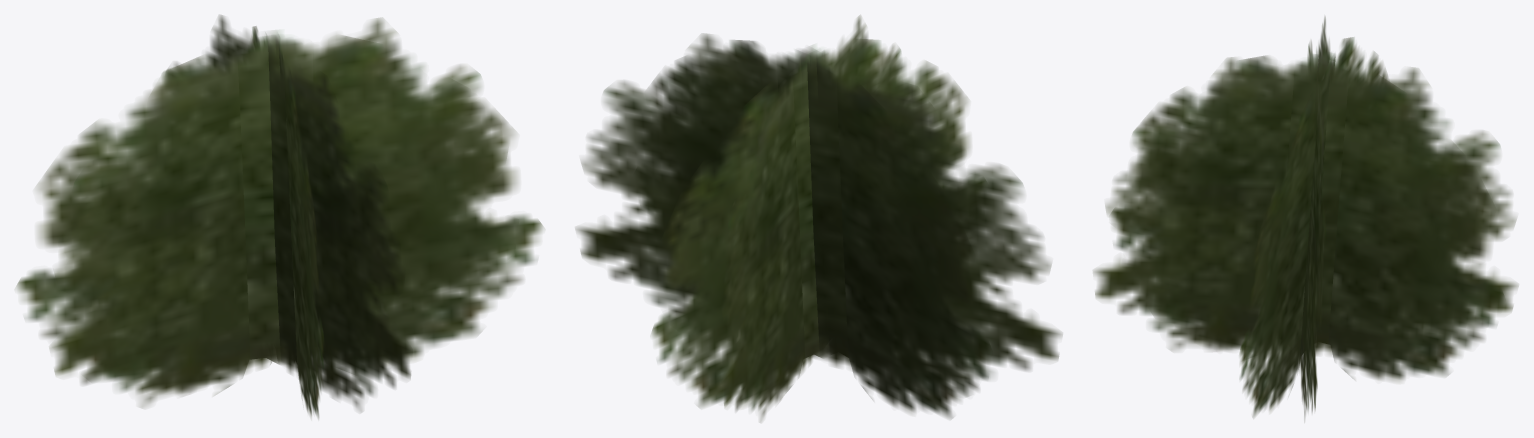
File: distant-tree-10.glb
3 renders of one model, left to right at view 1: azimuth 30°, elevation 25°; view 2: azimuth 150°, elevation 25°; view 3: azimuth 270°, elevation 25°, orthographic. The views are drawn at different scales.
Parts seen in each view (by area): view 1: Background_Tree_Atlas.010; view 2: Background_Tree_Atlas.010; view 3: Background_Tree_Atlas.010.
Part boxes in pixels (x1,y1,x2,y2): Background_Tree_Atlas.010: (16, 15, 543, 418); Background_Tree_Atlas.010: (575, 15, 1062, 422); Background_Tree_Atlas.010: (1093, 17, 1518, 419).
Bounding box in the file's own units: 320 × 224 × 265.
1 material, 1 textured.
